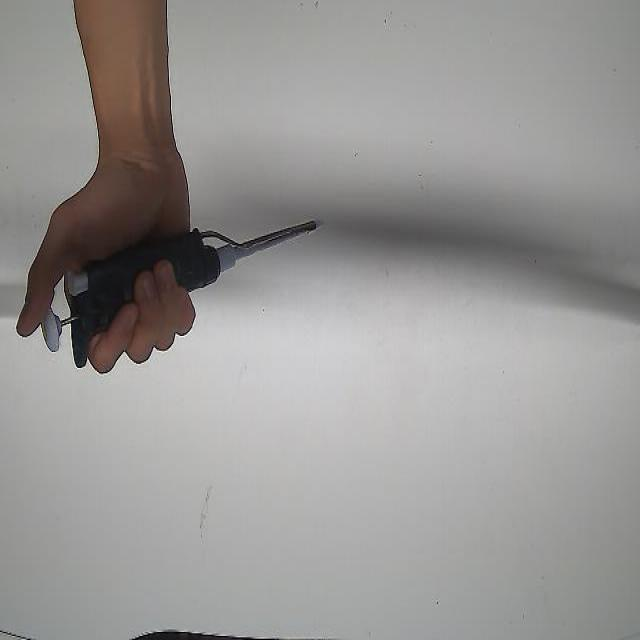Single Channel Pipettor: (41, 219, 320, 368)
